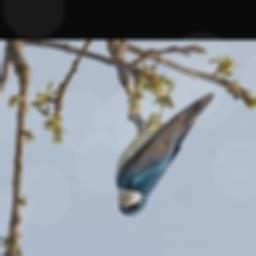Swallow: (110, 90, 219, 221)
